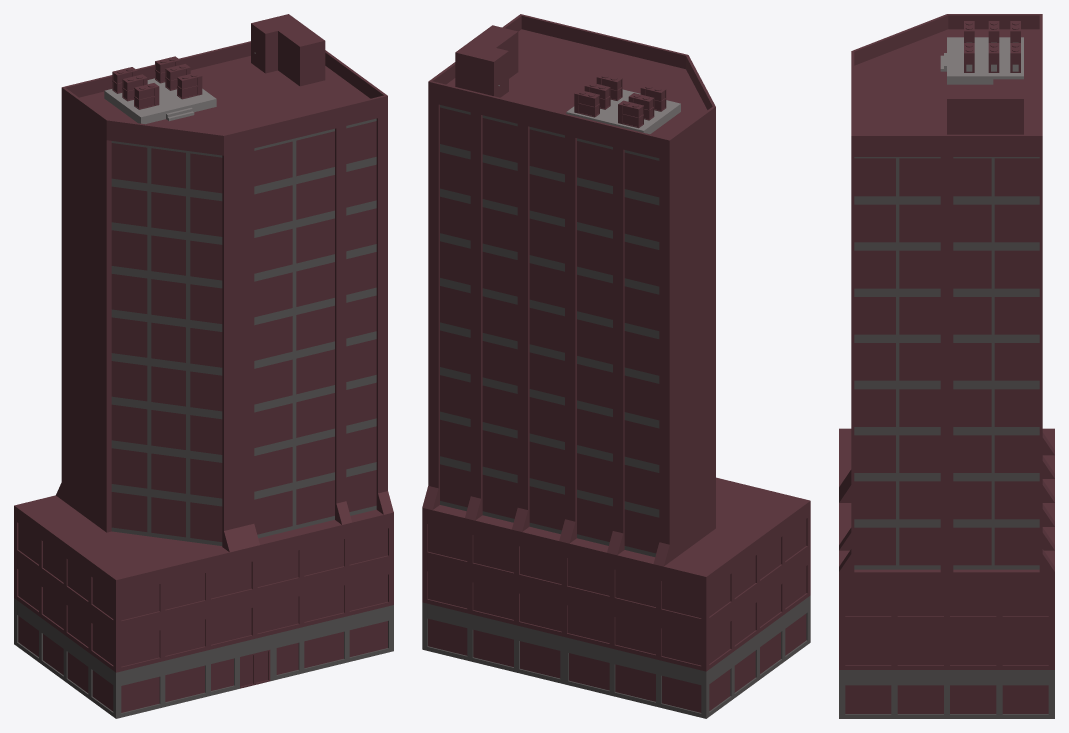
File: building-office.fbx
The picture shows the model from 3 angles, left to right: view 1: azimuth 30°, elevation 25°; view 2: azimuth 150°, elevation 25°; view 3: azimuth 270°, elevation 25°; orthographic projection. The views are drawn at different scales.
Visible parts, largest first — view 1: building-office; view 2: building-office; view 3: building-office.
Part boxes in pixels (x1,y1,x2,y2): building-office: (14,14,393,718); building-office: (422,14,810,718); building-office: (839,14,1054,718).
Bounding box in the file's own units: 22 × 43.7 × 14.
